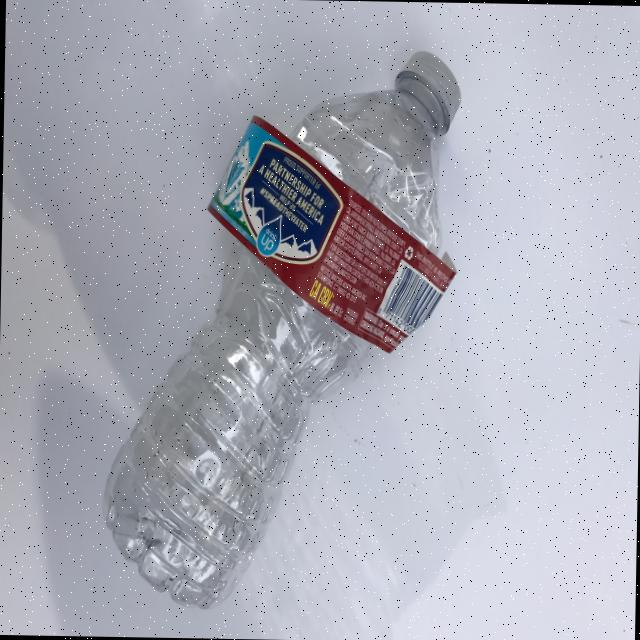plastic: (100, 44, 462, 614)
